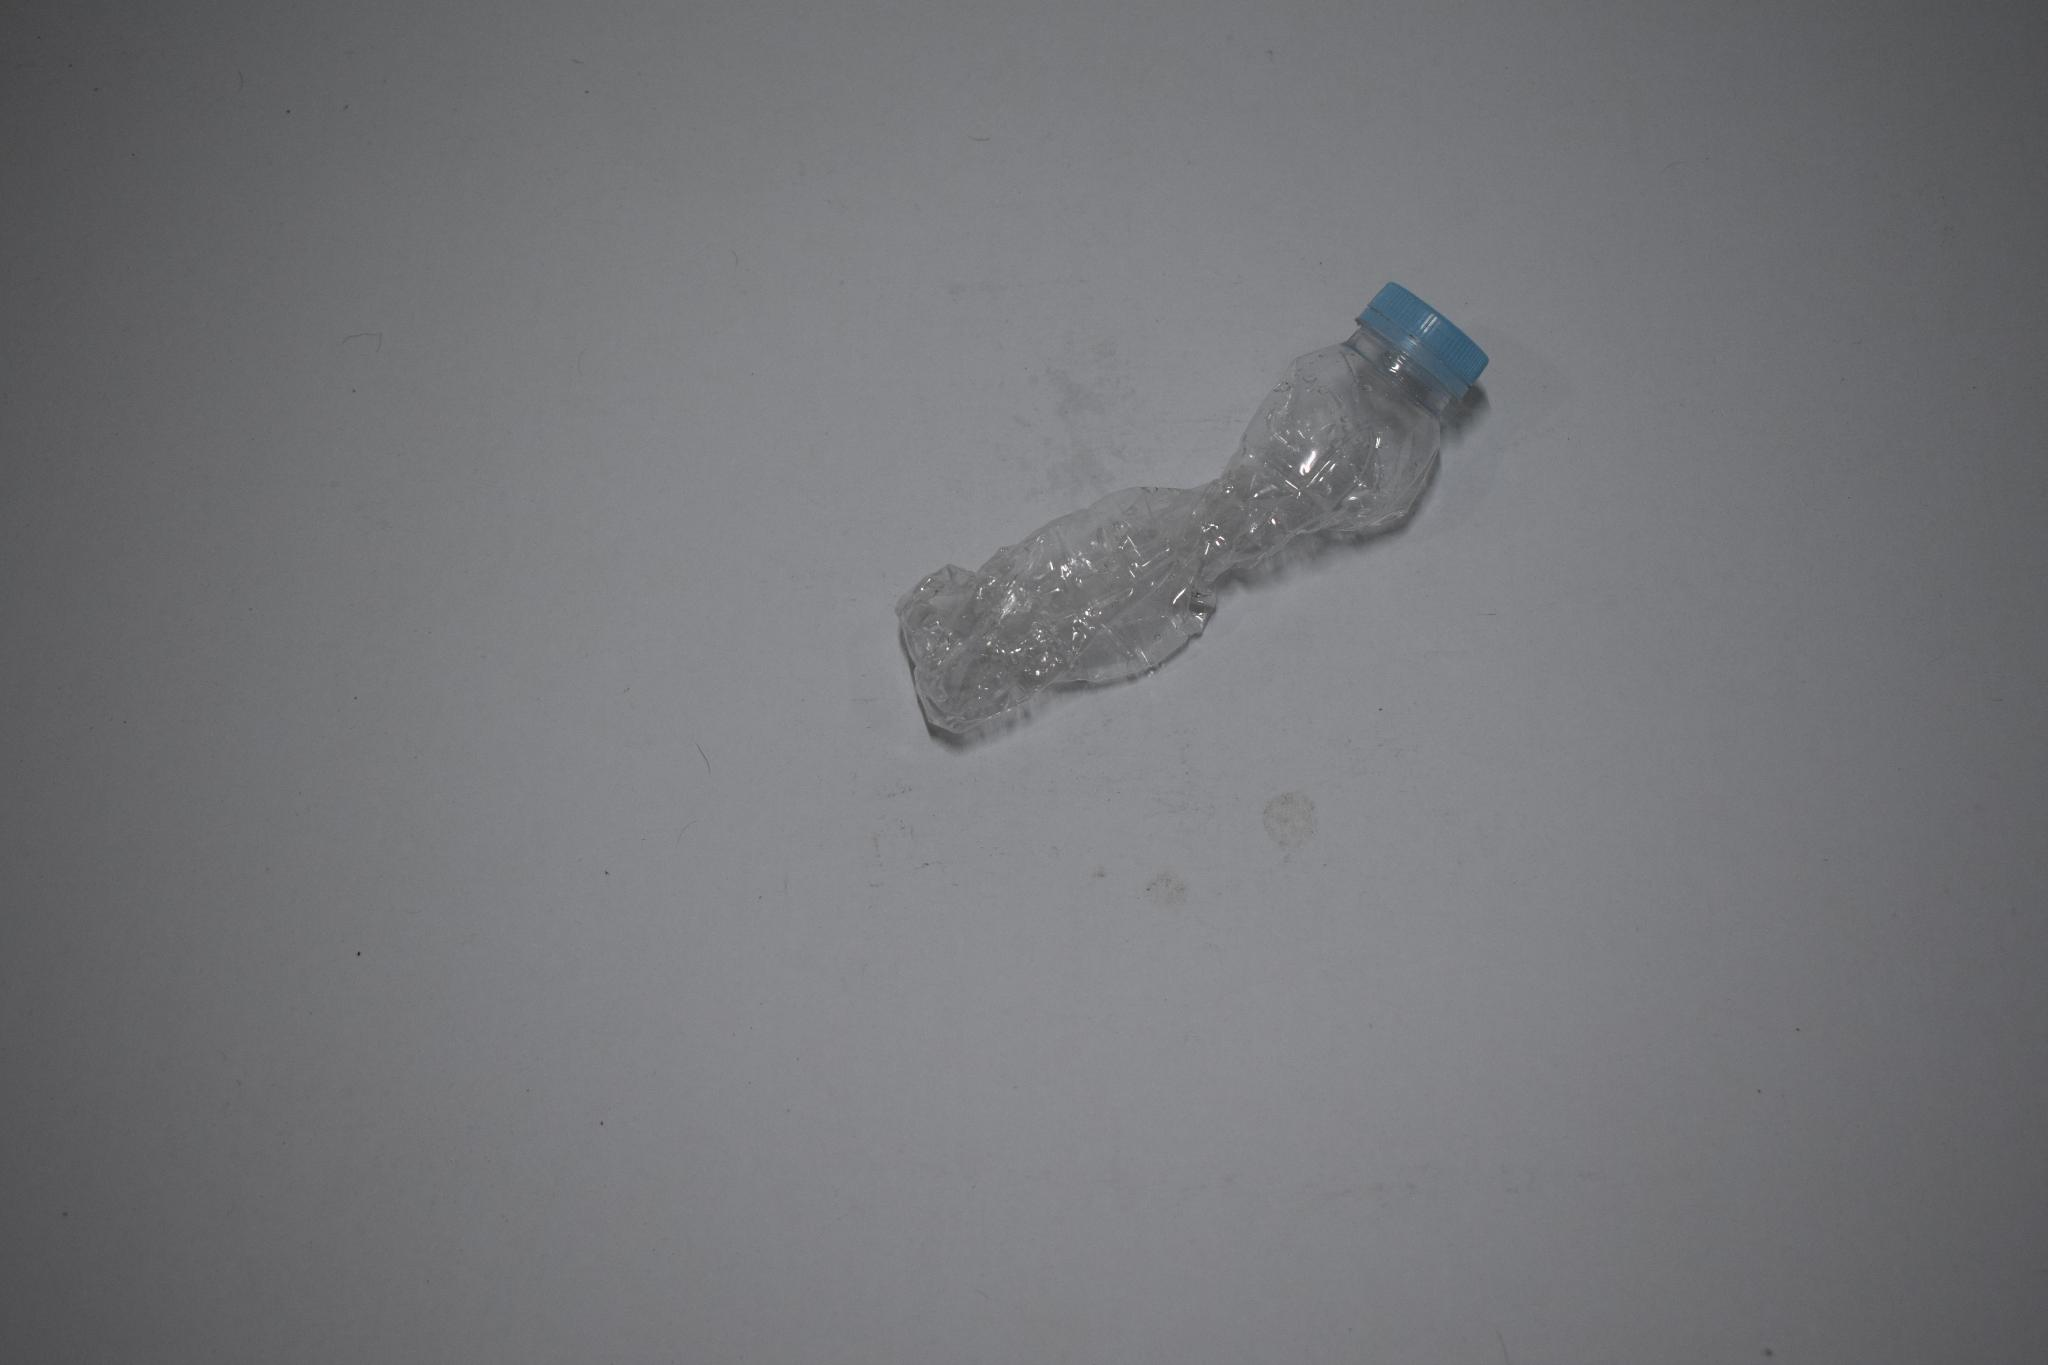bottle: (895, 233, 1503, 810)
